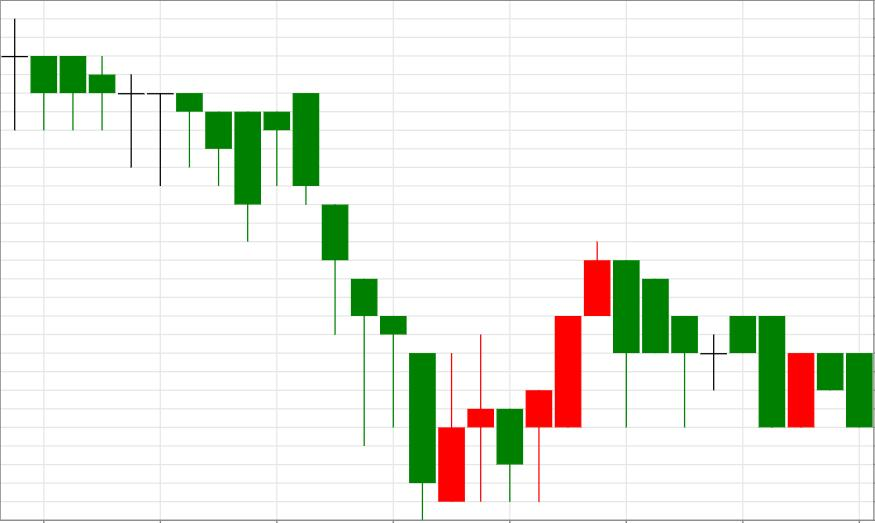hammer_rise: (177, 92, 378, 446), (585, 242, 698, 428)
